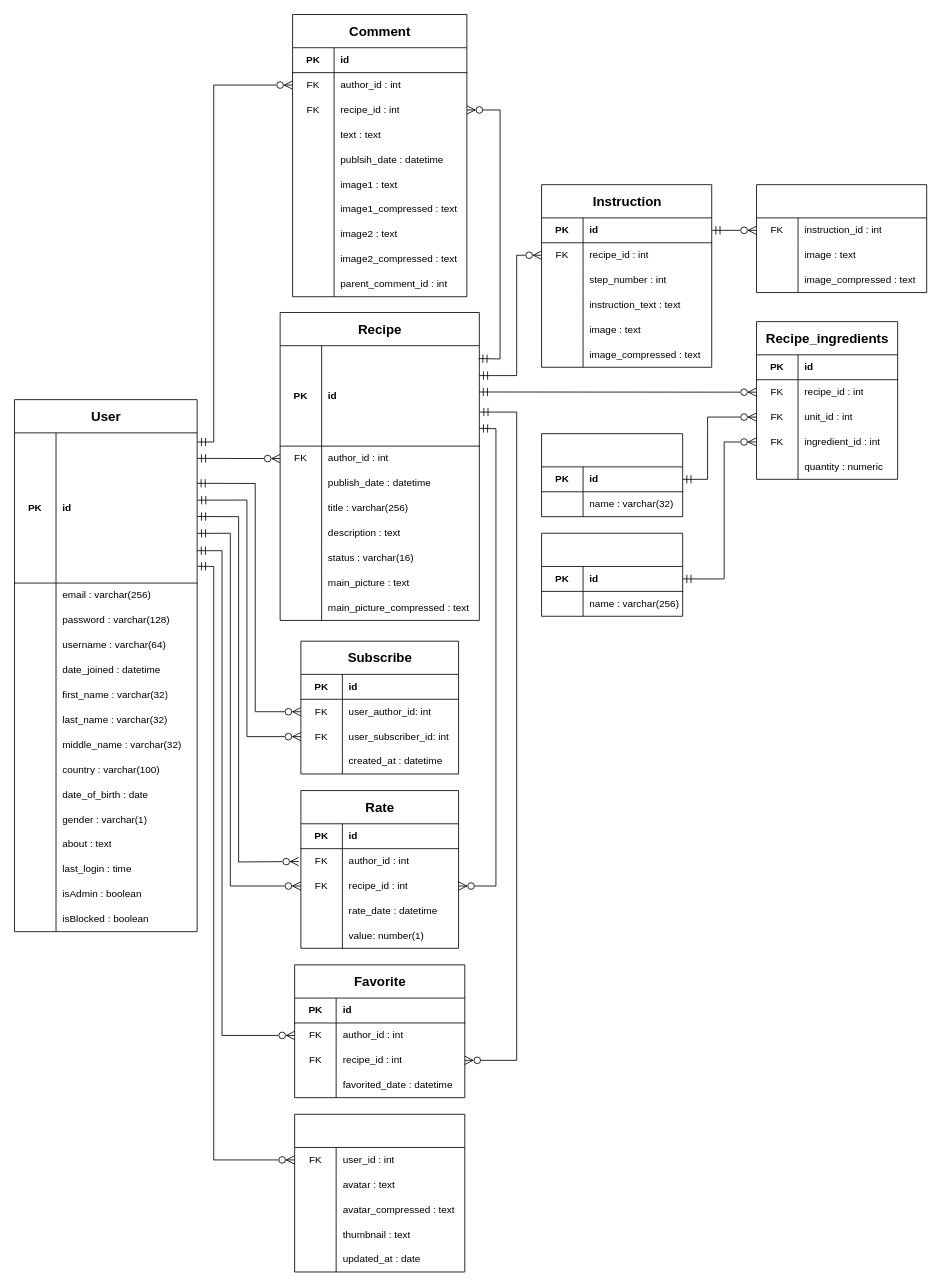
This 941x1287 diagram has some shape labels left out. The box of each missing label's shape, as (x1, y1, x2, y2) in pixels:
Ingredient: (541, 532, 683, 616)
Instruction_images: (756, 184, 927, 293)
Unit: (541, 433, 683, 517)
User_avatar: (294, 1113, 465, 1272)
